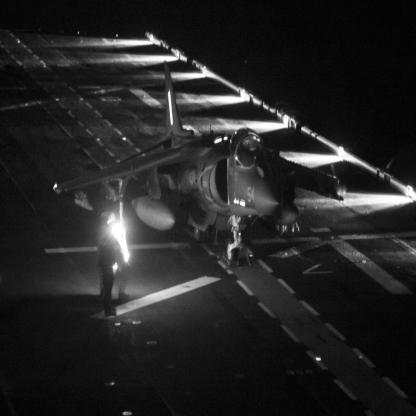AV8B: (53, 61, 345, 267)
